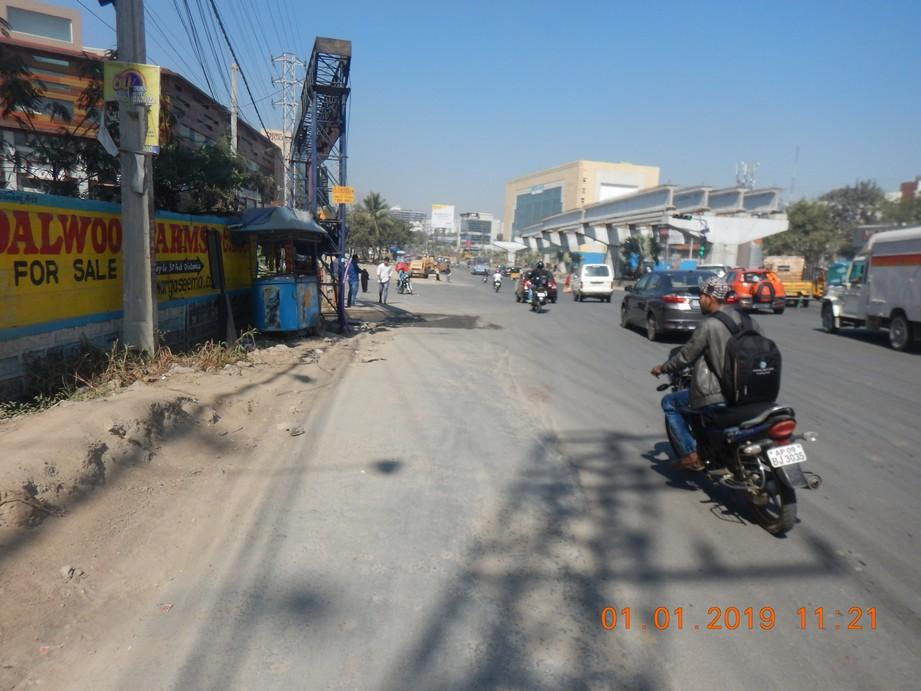plate: (766, 444, 809, 468)
